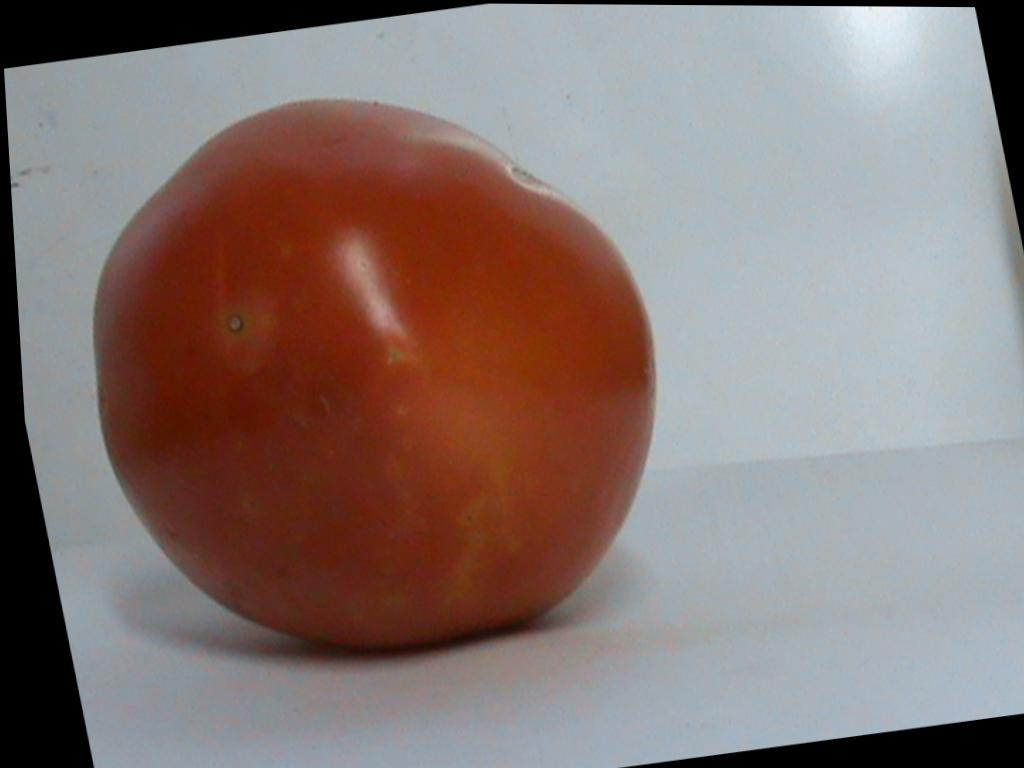surface_damage: (224, 311, 244, 334)
tomato: (96, 100, 653, 644)
